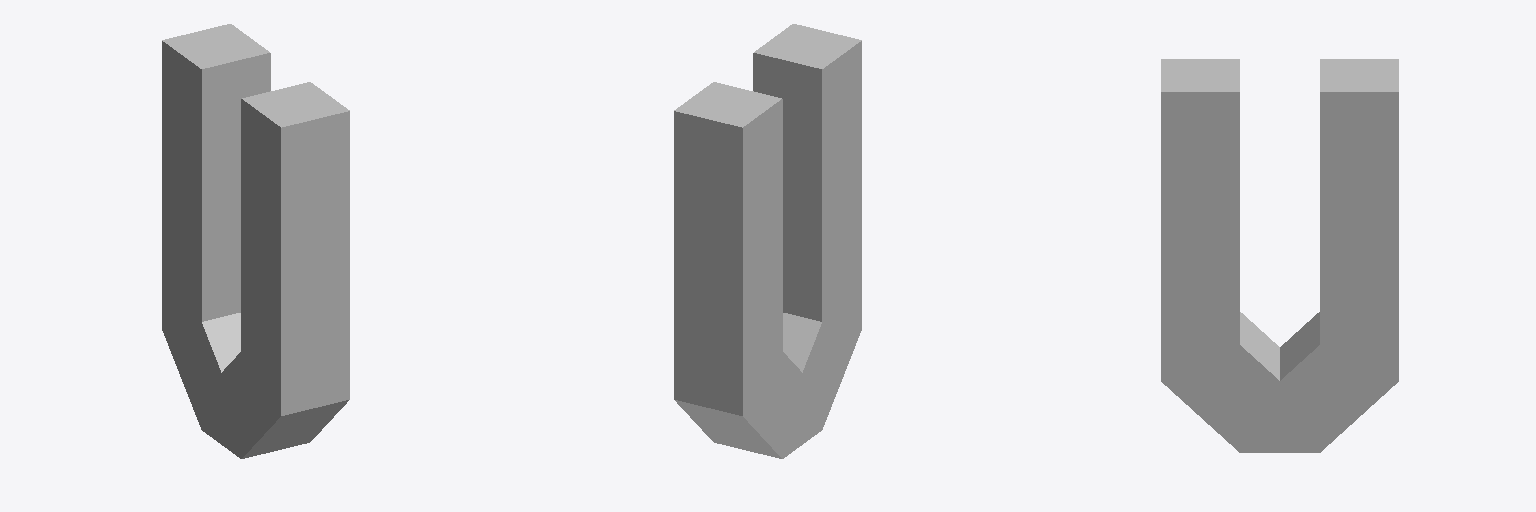
The model's file is character_v.obj.
The picture shows the model from 3 angles: view 1: azimuth 30°, elevation 25°; view 2: azimuth 150°, elevation 25°; view 3: azimuth 270°, elevation 25°; orthographic projection.
Parts seen in each view (by area): view 1: Cube.001; view 2: Cube.001; view 3: Cube.001.
Boxes of the visible parts, <box> form: Cube.001: <box>162,24,349,458</box>; Cube.001: <box>674,24,861,458</box>; Cube.001: <box>1161,59,1398,452</box>.
Bounding box in the file's own units: 6 × 30 × 18.